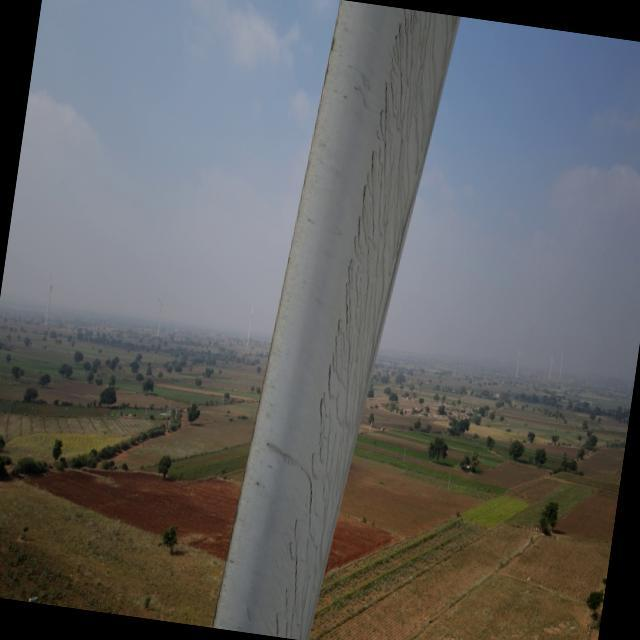Dirt: (214, 1, 462, 638)
